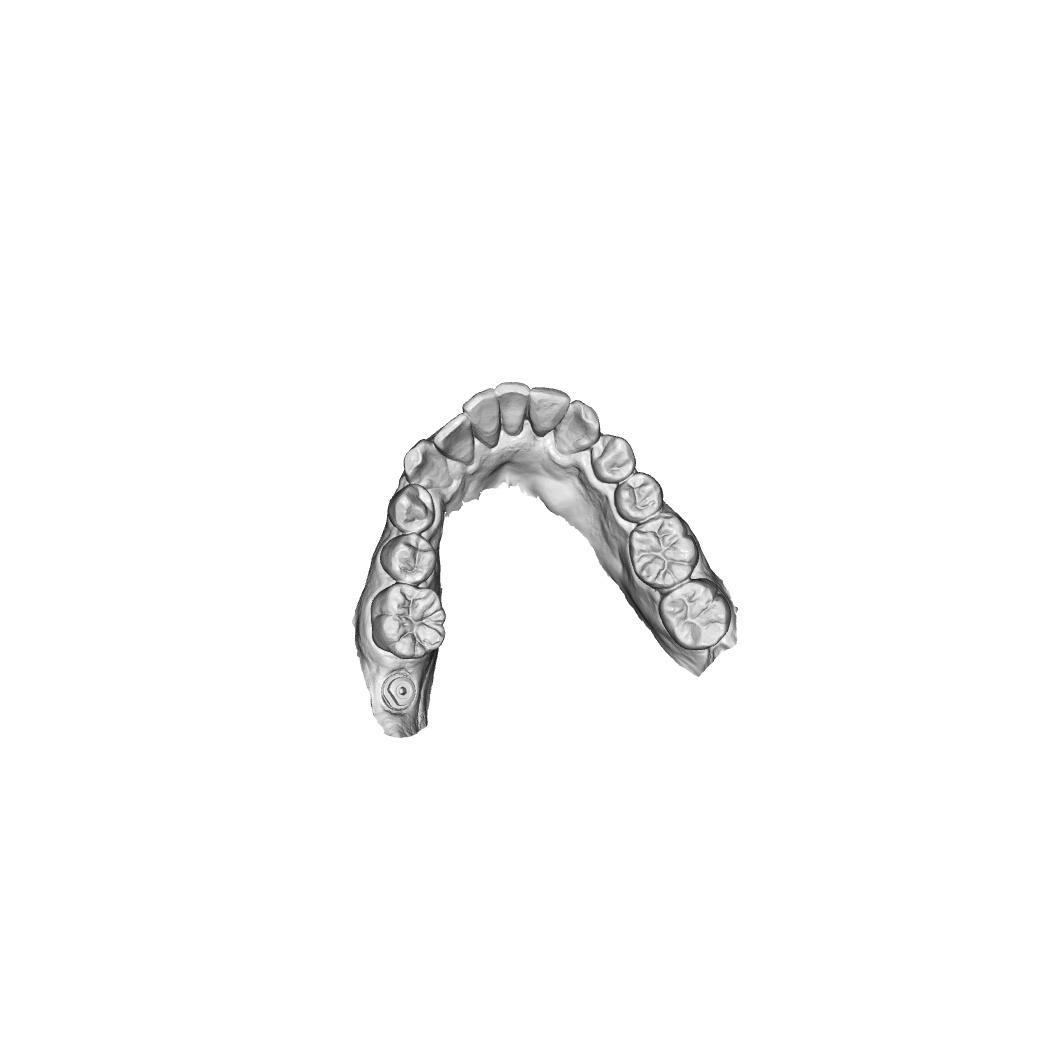canine: (554, 398, 602, 456), (403, 438, 452, 493)
implant: (379, 671, 419, 712)
incisor: (462, 385, 502, 449), (432, 412, 476, 465), (528, 385, 571, 439), (495, 380, 531, 437)
molar: (369, 581, 448, 660), (627, 510, 700, 589), (657, 577, 733, 652)
premolar: (379, 531, 438, 586), (613, 472, 665, 525), (386, 483, 436, 535), (589, 434, 636, 484)
